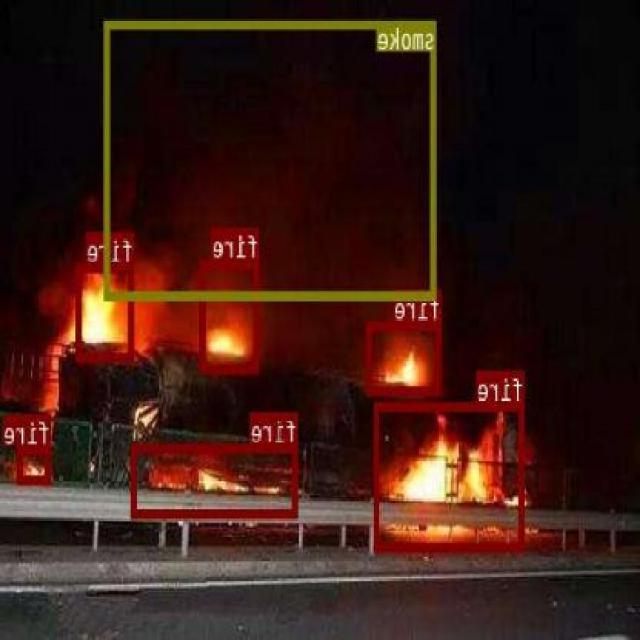Fire: (374, 402, 526, 550), (133, 443, 299, 517), (202, 258, 260, 372), (76, 264, 136, 359), (368, 321, 442, 394), (18, 445, 52, 483)
Smoke: (106, 18, 437, 300)
